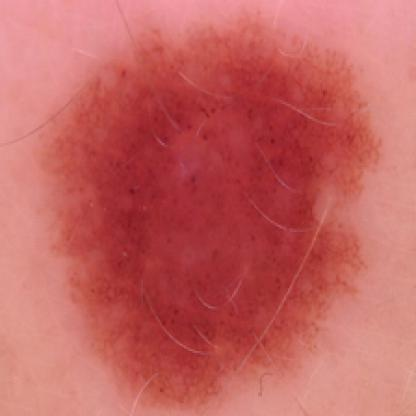benign: (45, 28, 377, 390)
